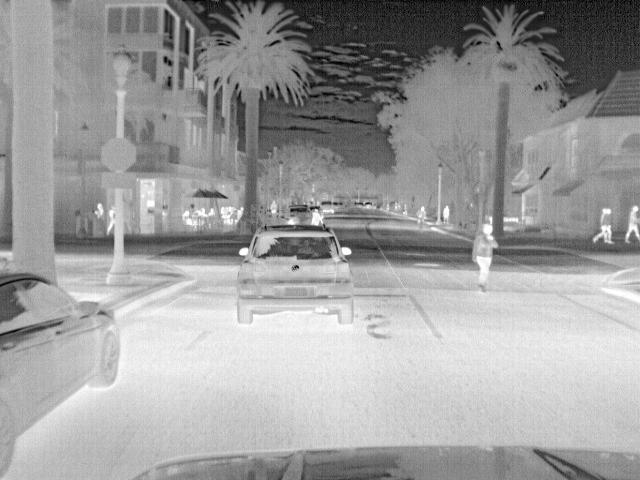car: (2, 270, 120, 479), (233, 223, 360, 325), (287, 203, 316, 226), (316, 200, 336, 214)
person: (471, 220, 501, 292), (589, 206, 611, 247), (622, 204, 640, 246), (92, 200, 107, 241), (106, 204, 119, 237), (440, 202, 452, 230), (417, 203, 429, 229), (269, 197, 282, 216)
